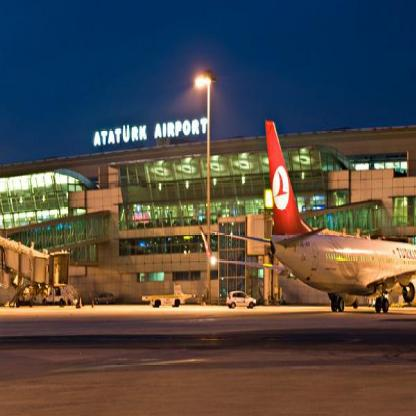other: (252, 108, 315, 247)
